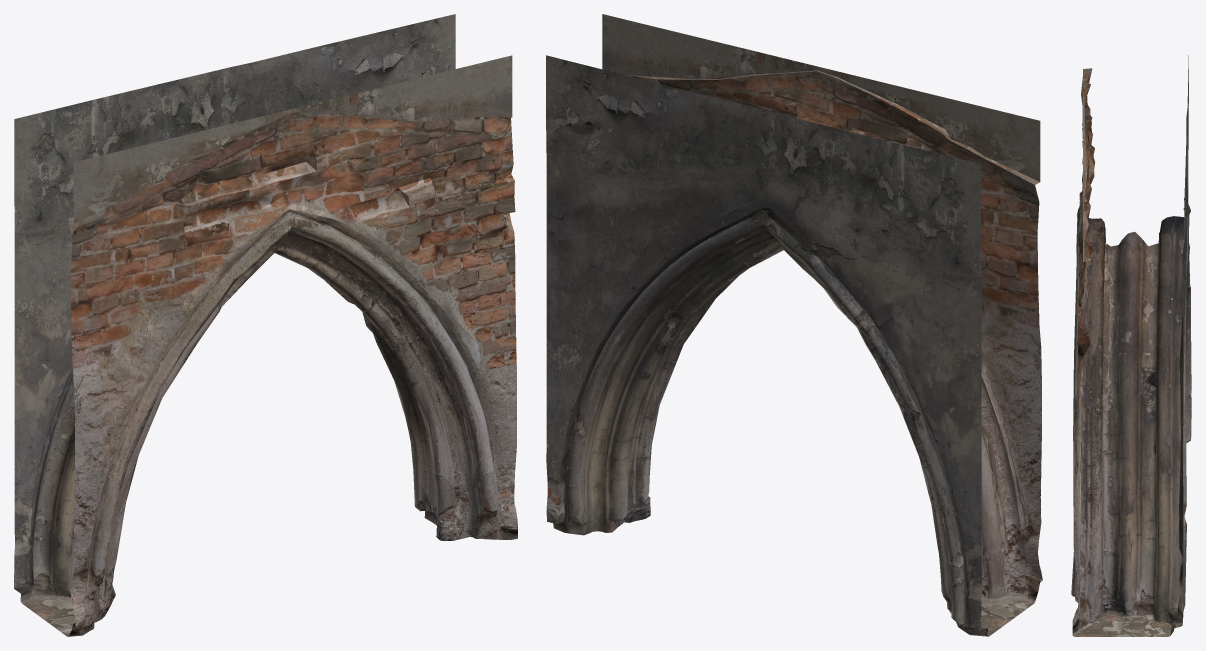
File: SM_ChapelArch_01_04.fbx
The picture shows the model from 3 angles, left to right: view 1: azimuth 30°, elevation 25°; view 2: azimuth 150°, elevation 25°; view 3: azimuth 270°, elevation 25°; orthographic projection. The views are drawn at different scales.
Visible parts, largest first — view 1: sm_ChapelArch_01_04_LOD0; view 2: sm_ChapelArch_01_04_LOD0; view 3: sm_ChapelArch_01_04_LOD0.
Boxes of the visible parts, x1=… form: sm_ChapelArch_01_04_LOD0: x1=14, y1=14, x2=517, y2=636; sm_ChapelArch_01_04_LOD0: x1=546, y1=14, x2=1042, y2=636; sm_ChapelArch_01_04_LOD0: x1=1071, y1=55, x2=1191, y2=636.
Size of the model in its own units: 69.92 by 264 by 276.
